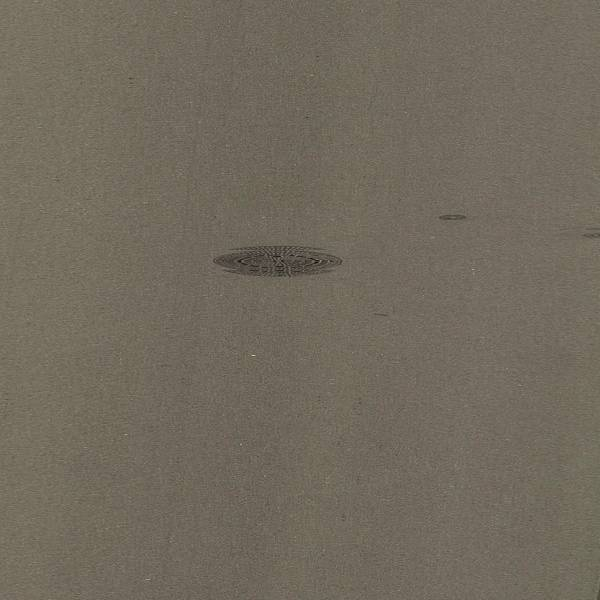road_damage: (435, 208, 474, 225)
